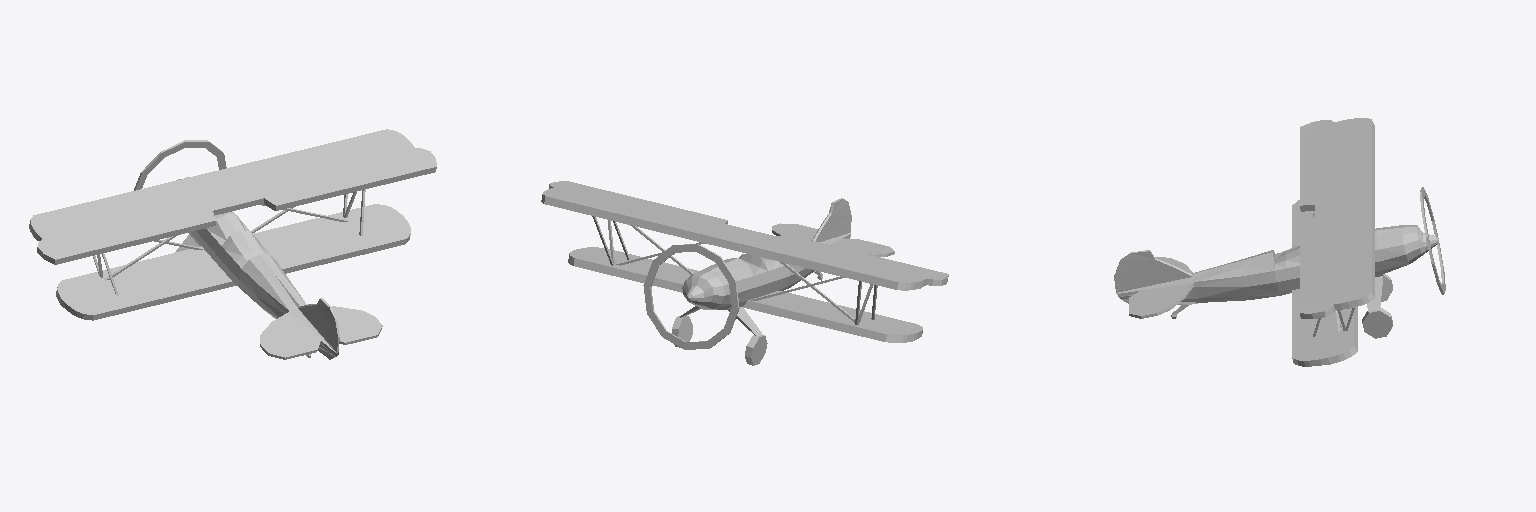
Rendered from TLV4.obj.
3 renders of one model, left to right at view 1: azimuth 30°, elevation 25°; view 2: azimuth 150°, elevation 25°; view 3: azimuth 270°, elevation 25°, orthographic.
Parts seen in each view (by area): view 1: TVL4_Circle.007; view 2: TVL4_Circle.007; view 3: TVL4_Circle.007.
Part boxes in pixels (bbox=[...]): TVL4_Circle.007: bbox=[29, 129, 436, 359]; TVL4_Circle.007: bbox=[541, 181, 948, 365]; TVL4_Circle.007: bbox=[1114, 118, 1445, 366].
Size of the model in its own units: 10.1 by 3.13 by 7.39.